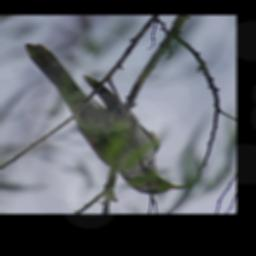Cuckoo: (16, 41, 185, 195)
